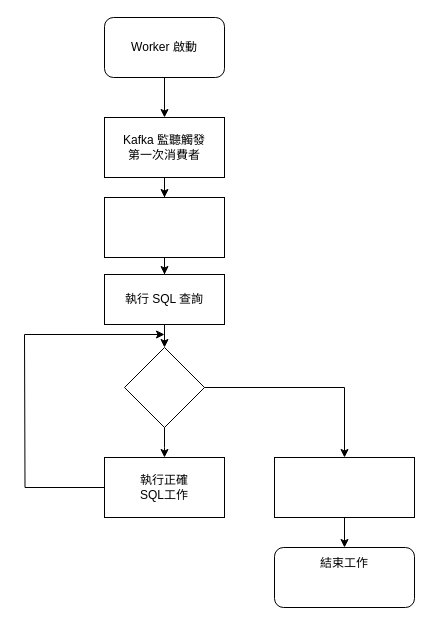
Image size: 432x625. Some labels were removed from this diagram. The shapes that lost their labels are listed below. From the top down, each one's box as (x1, y1, x2, y2) in pixels, then its label:
(104, 196, 224, 258): 緩存紀錄 DbConnection
(124, 346, 204, 428): 是否超過 8 個小時
(274, 456, 414, 518): 發生閒置錯誤 因為連線是 8小時前建立
